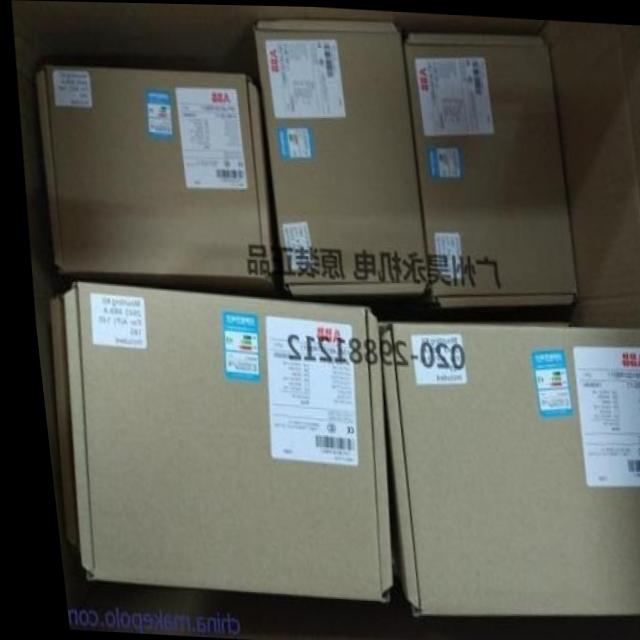box: (47, 283, 379, 599), (372, 324, 640, 614), (35, 66, 268, 280), (251, 14, 423, 293), (407, 35, 570, 304)
